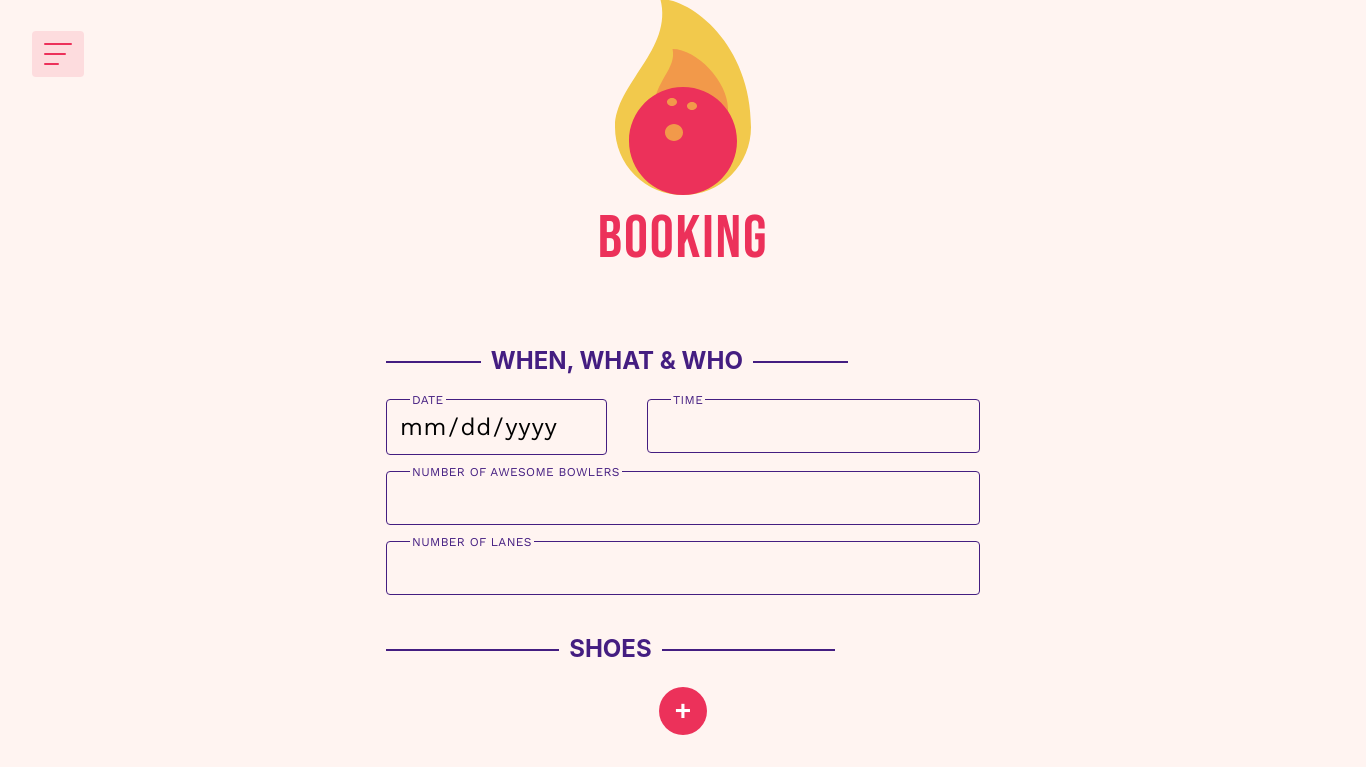
Testing Booking page › Should show the error message if any field is unfilled after I press the submit button.
Type "2023-11-27" into the date field with test id "when".
click(496, 427); type("2023-11-27")  # box [386, 399, 607, 455]
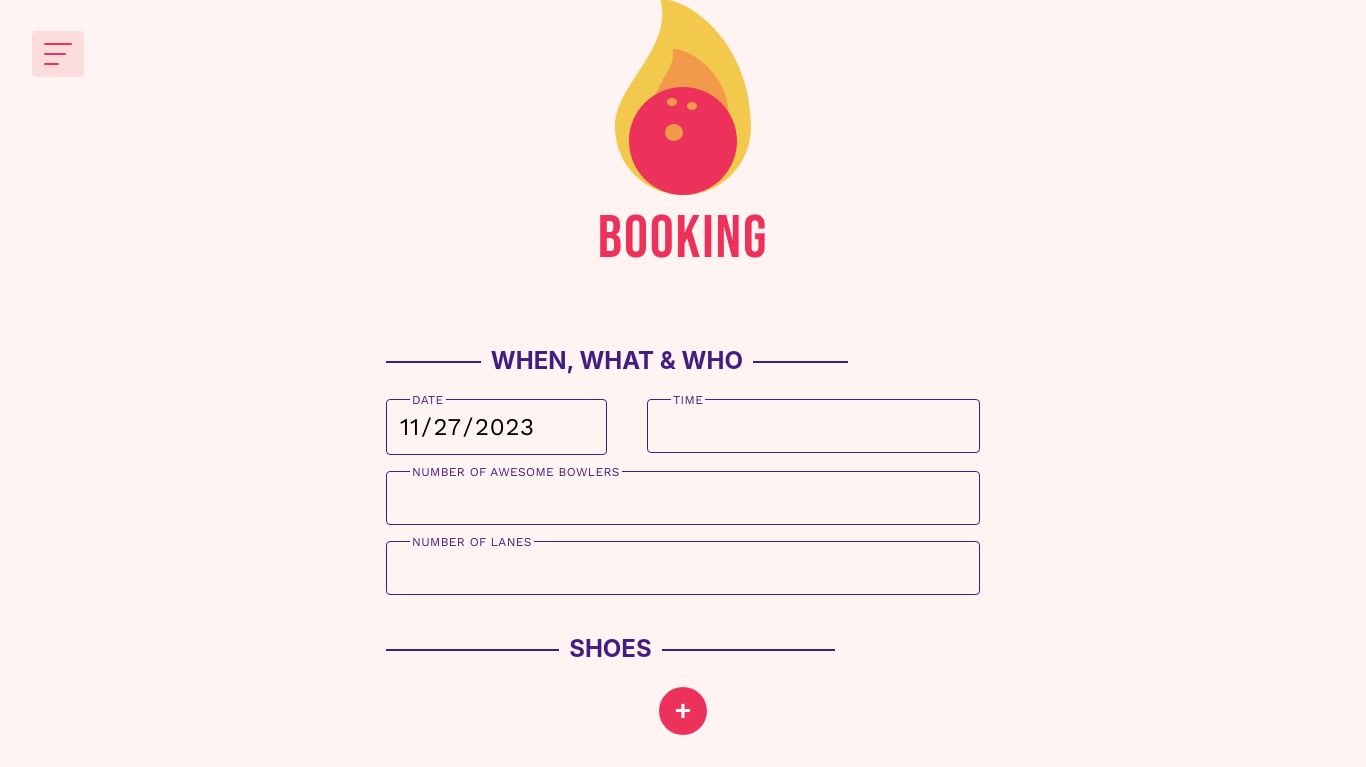
Type "212321" into the field with test id "time".
click(814, 426); type("212321")  # box [647, 399, 980, 453]
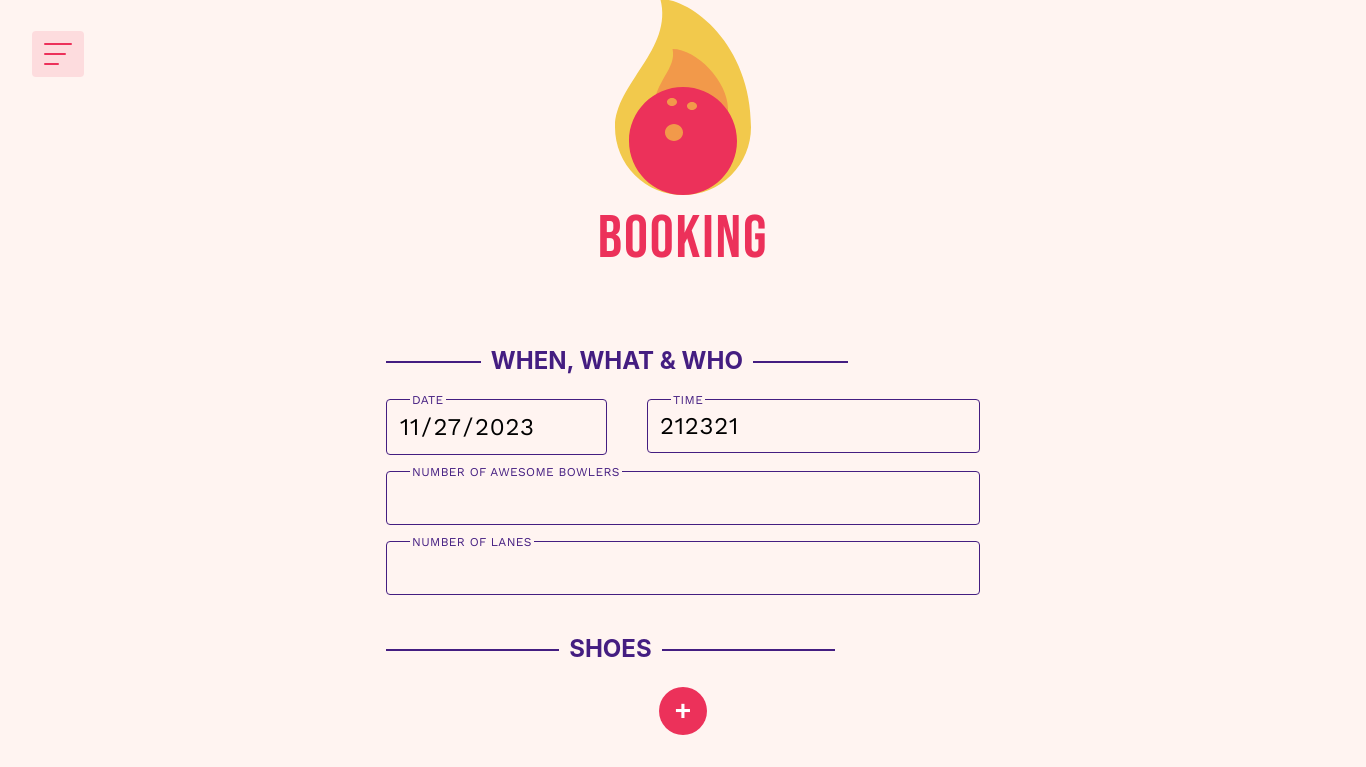
Type "1" into the number field with test id "people".
click(683, 498); type("1")  # box [386, 471, 980, 525]
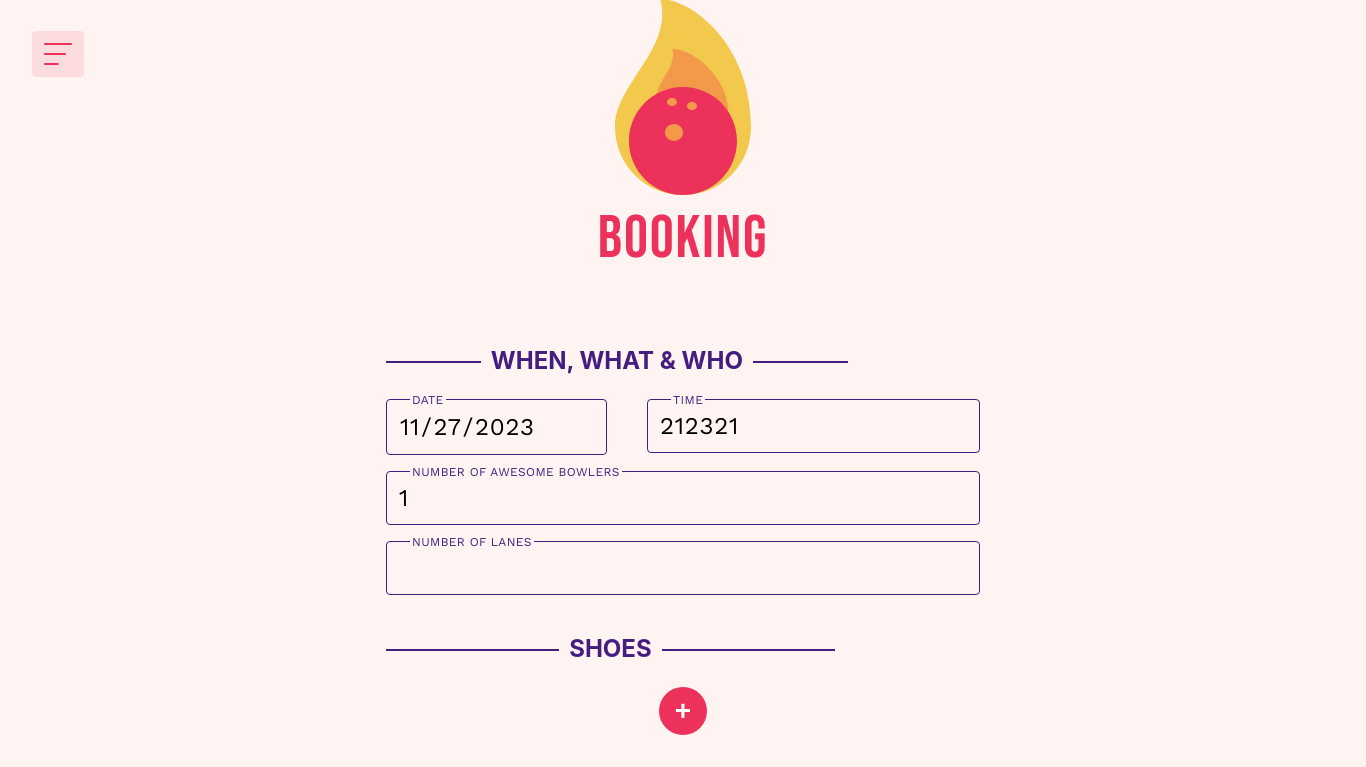
Click the button "+".
click(683, 711)  # box [659, 687, 707, 735]
(page scrolled)
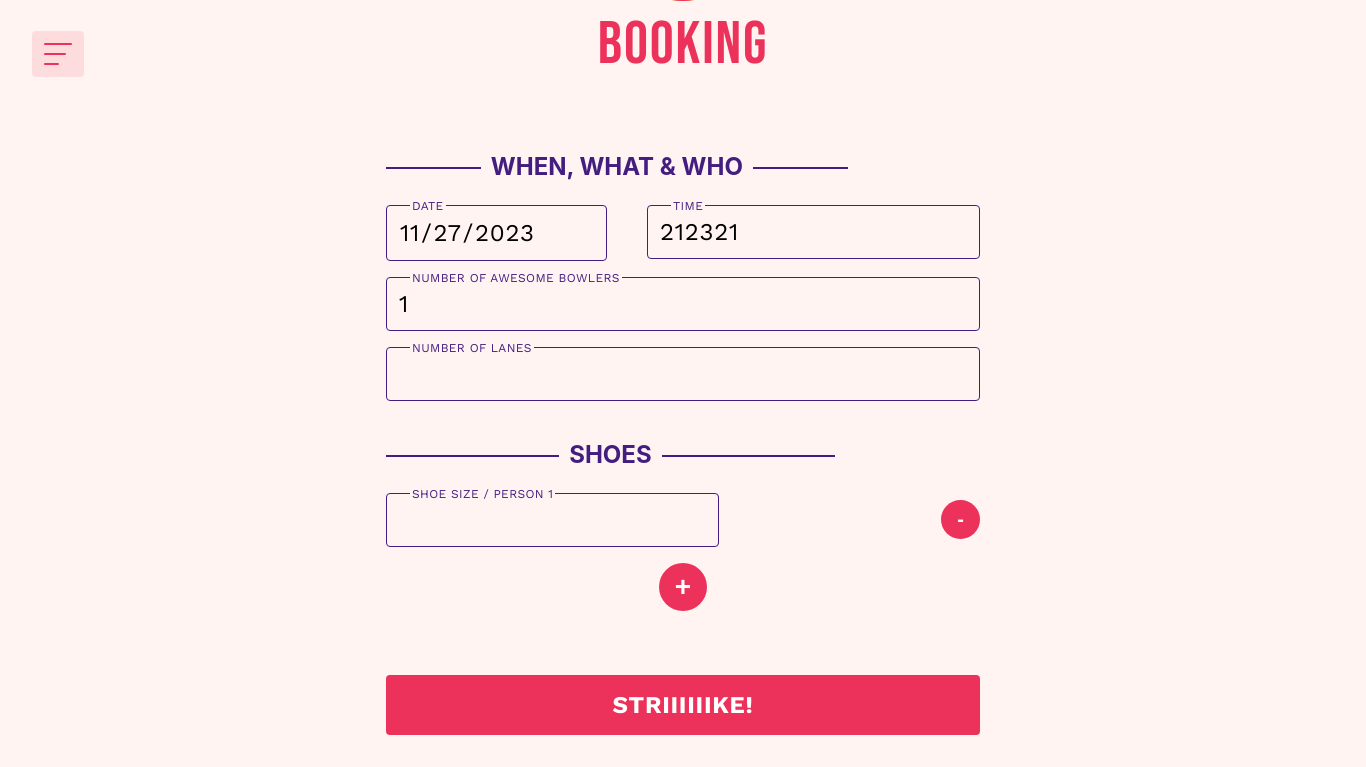
Click the button "strIIIIIike!".
click(683, 705)  # box [386, 675, 980, 735]
(page scrolled)
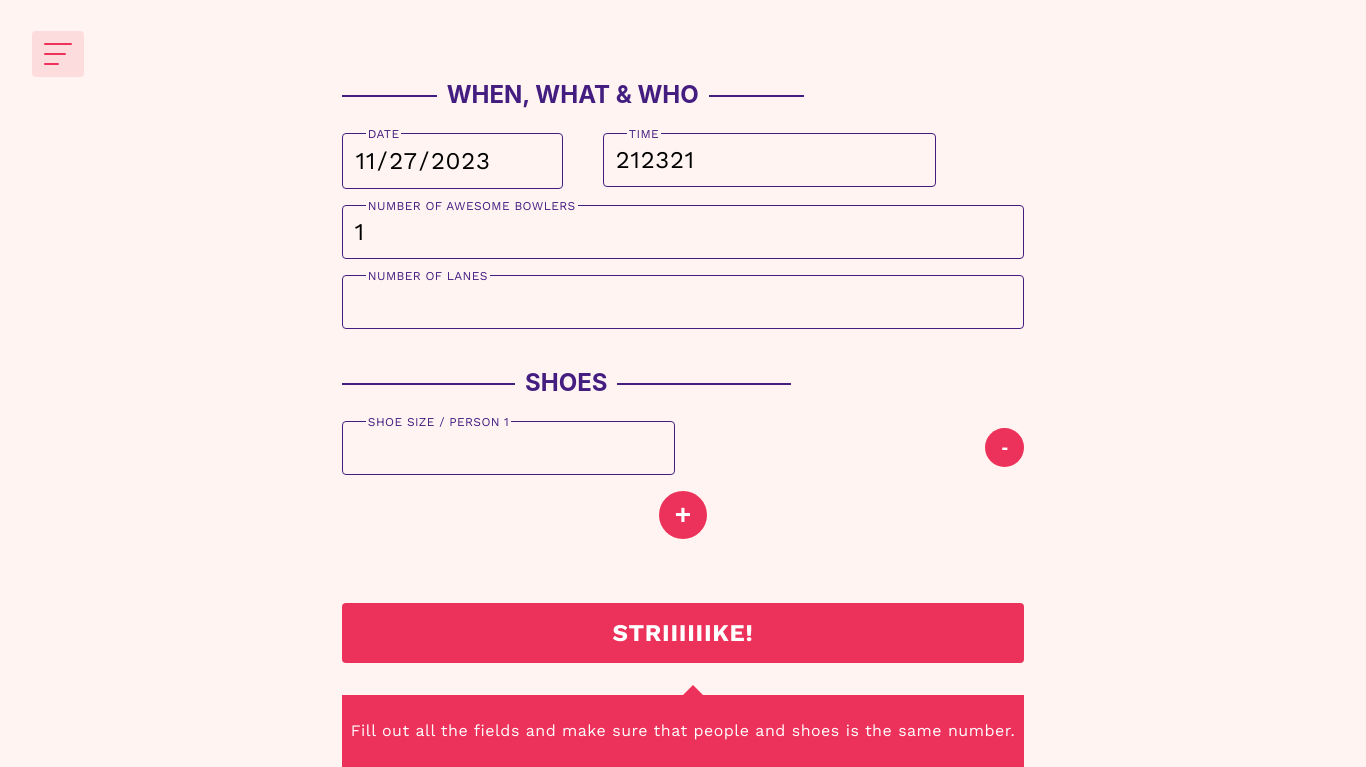
expect the text "Fill out all the fields and make sure that people and shoes is the same number." is shown: met, box [351, 720, 1015, 742]
